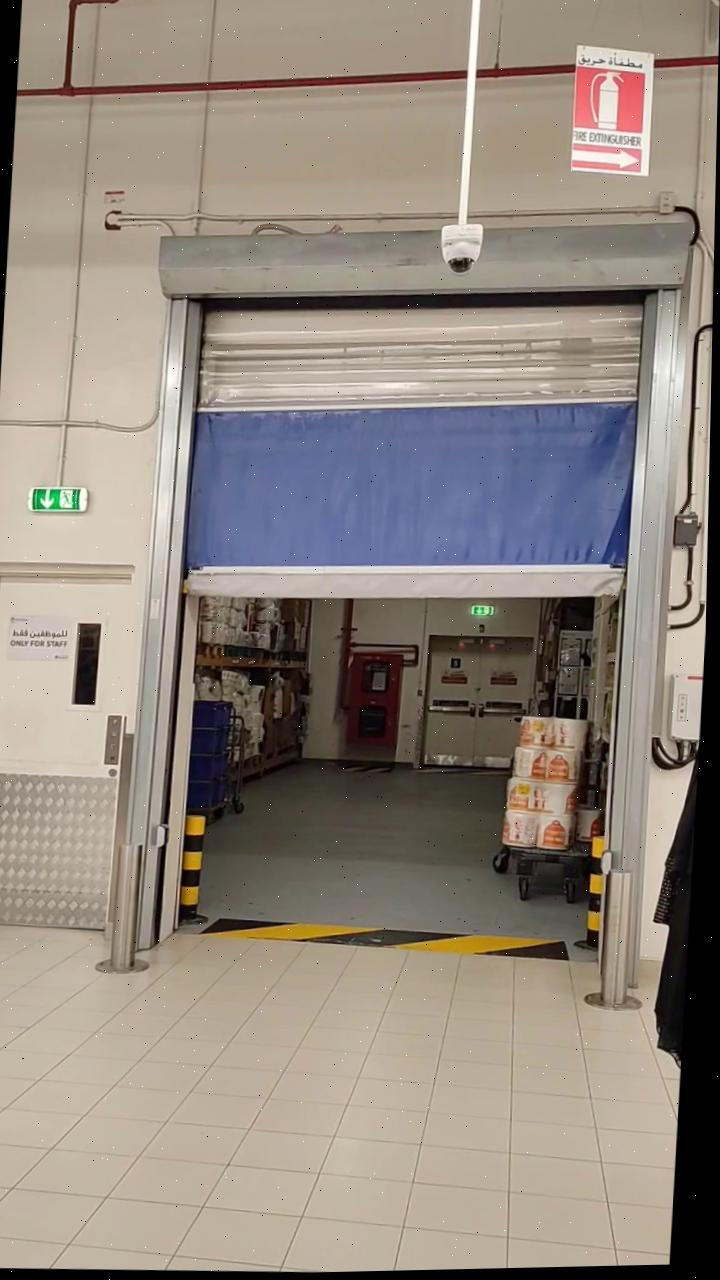Strip: (212, 905, 595, 978)
